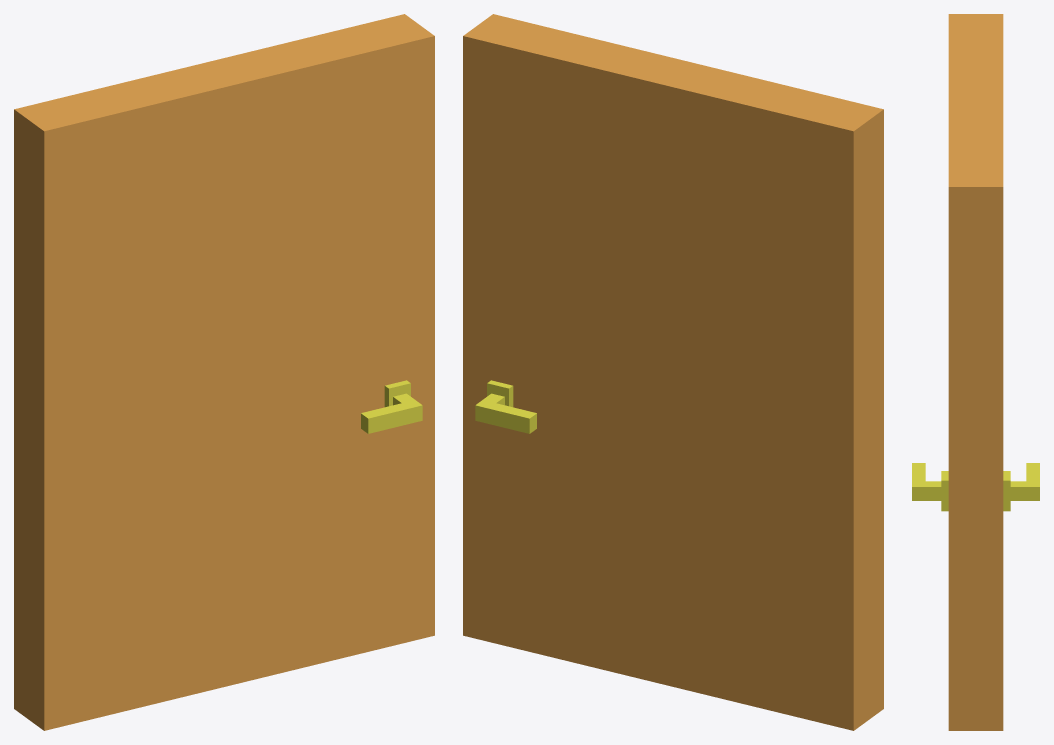
Rendered from SM_CabinDoor.fbx.
The picture shows the model from 3 angles, left to right: view 1: azimuth 30°, elevation 25°; view 2: azimuth 150°, elevation 25°; view 3: azimuth 270°, elevation 25°; orthographic projection. The views are drawn at different scales.
Parts seen in each view (by area): view 1: CabinDoor; view 2: CabinDoor; view 3: CabinDoor.
Part boxes in pixels (left/top/right/bottom): CabinDoor: left=14, top=14, right=434, bottom=730; CabinDoor: left=463, top=14, right=883, bottom=730; CabinDoor: left=912, top=14, right=1039, bottom=730.
Bounding box in the file's own units: 150 × 220 × 46.86.
